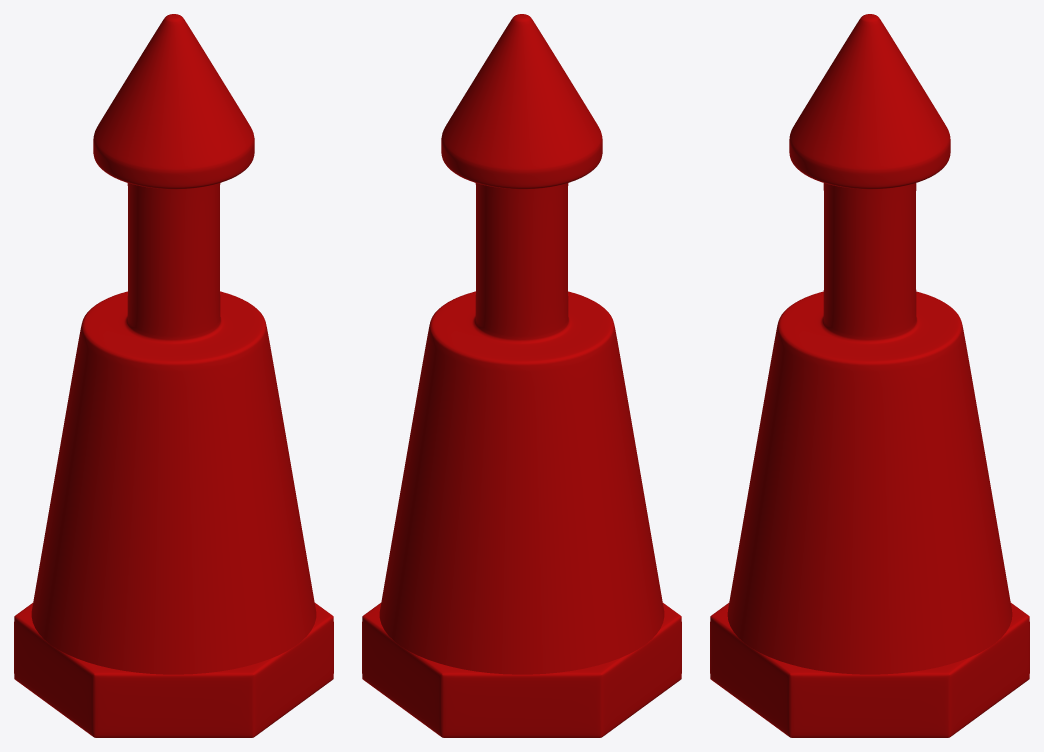
File: Model - Plastic - Mini.fbx
3 renders of one model, left to right at view 1: azimuth 30°, elevation 25°; view 2: azimuth 150°, elevation 25°; view 3: azimuth 270°, elevation 25°, orthographic.
Parts seen in each view (by area): view 1: Post - Plastic - Mini; view 2: Post - Plastic - Mini; view 3: Post - Plastic - Mini.
Part boxes in pixels (x1,y1,x2,y2): Post - Plastic - Mini: (14,14,333,737); Post - Plastic - Mini: (362,14,681,737); Post - Plastic - Mini: (710,14,1029,737).
Size of the model in its own units: 0.9867 by 2.54 by 1.11.
